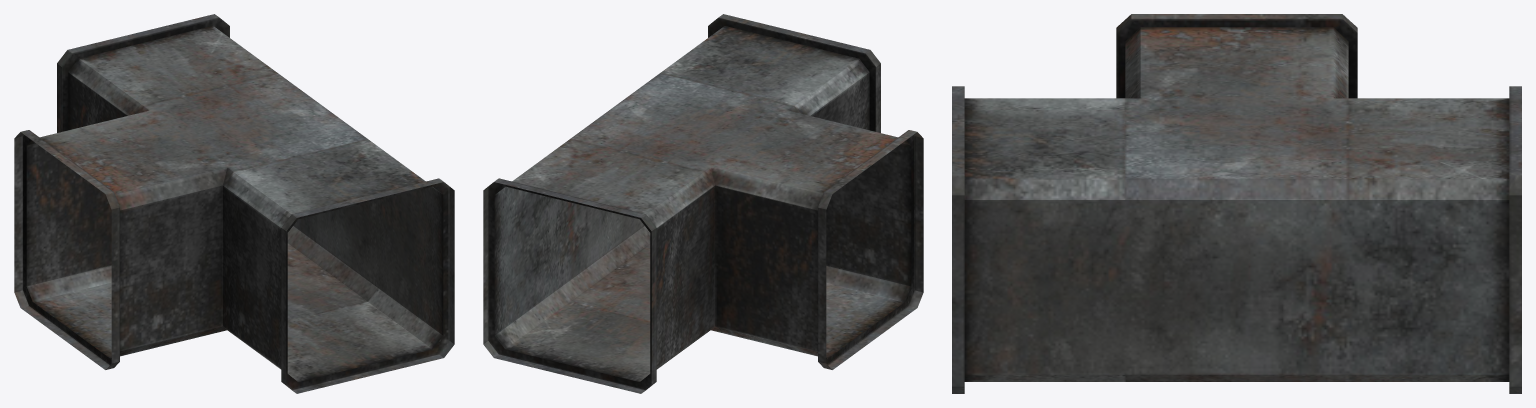
The model's file is VentT_S.FBX.
3 renders of one model, left to right at view 1: azimuth 30°, elevation 25°; view 2: azimuth 150°, elevation 25°; view 3: azimuth 270°, elevation 25°, orthographic. The views are drawn at different scales.
Parts seen in each view (by area): view 1: VentT_S; view 2: VentT_S; view 3: VentT_S.
Part boxes in pixels (x1=…): VentT_S: x1=14, y1=14, x2=454, y2=393; VentT_S: x1=483, y1=14, x2=923, y2=393; VentT_S: x1=952, y1=14, x2=1521, y2=393.
Bounding box in the file's own units: 132 × 79.96 × 189.
